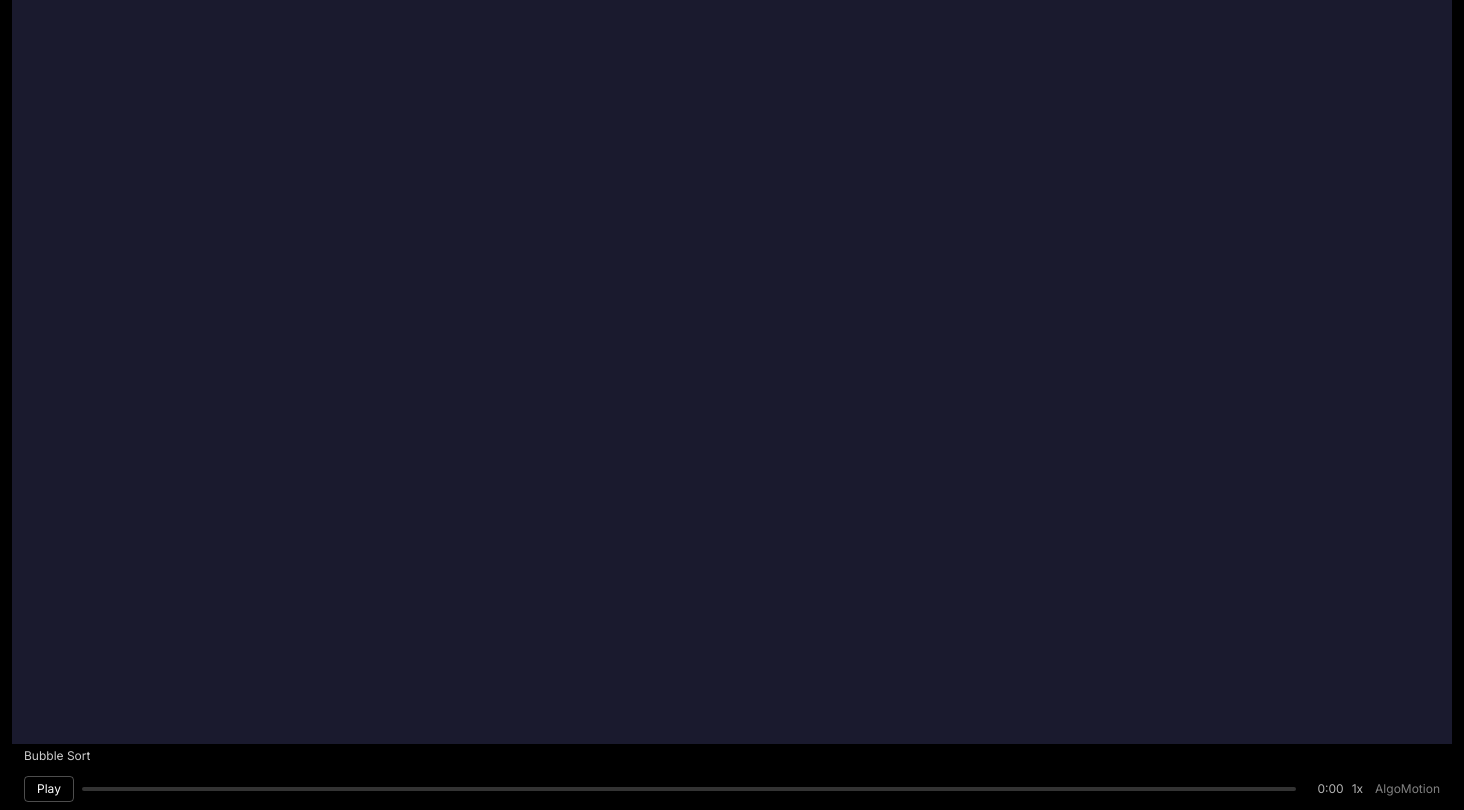
Test: EmbedPlayer › toggles play/pause on button click
(page scrolled)
Click the button "Play".
click(49, 789)  # box 24,776 -> 74,802
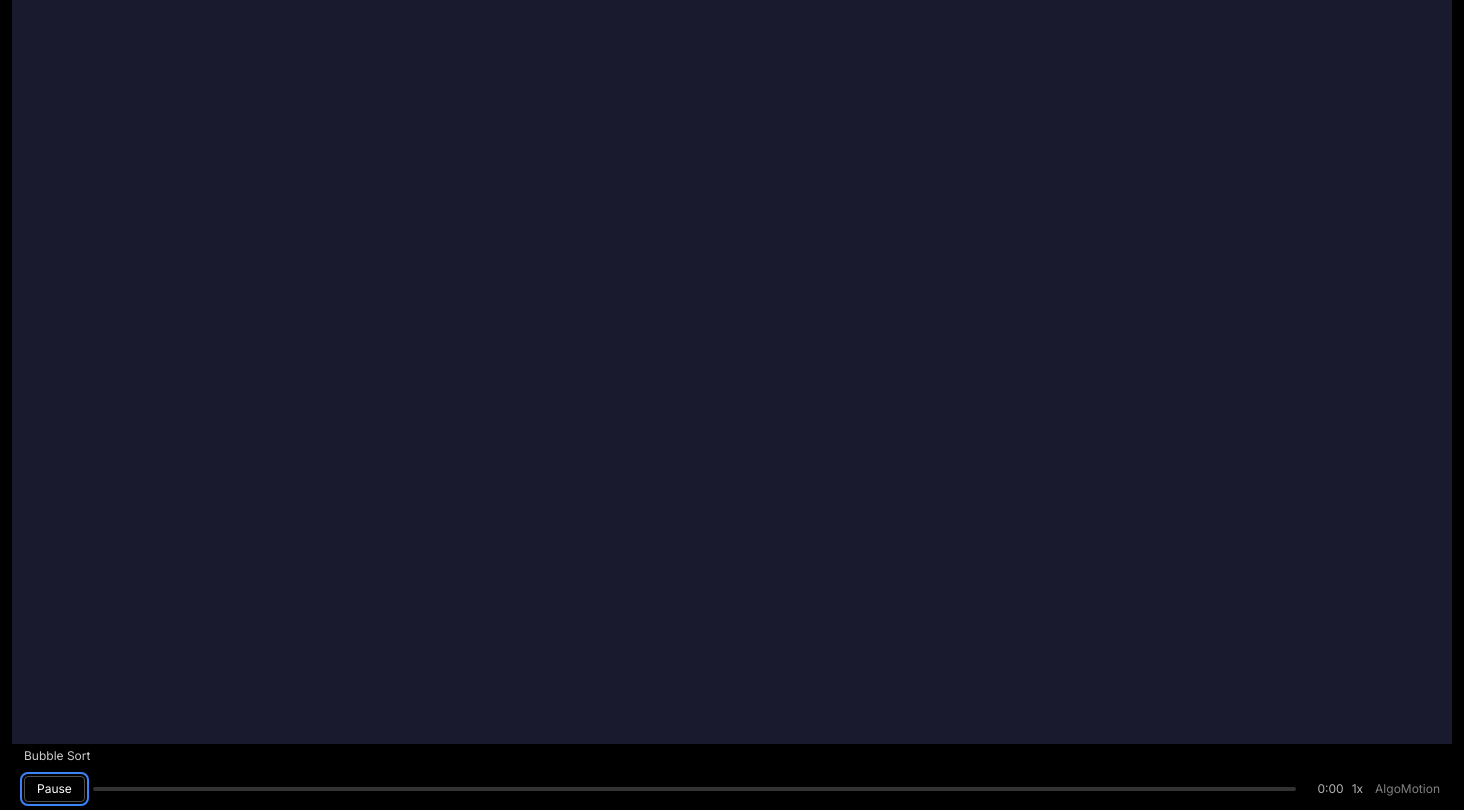
Now the button "Pause" is shown, box 24,776 -> 85,802
